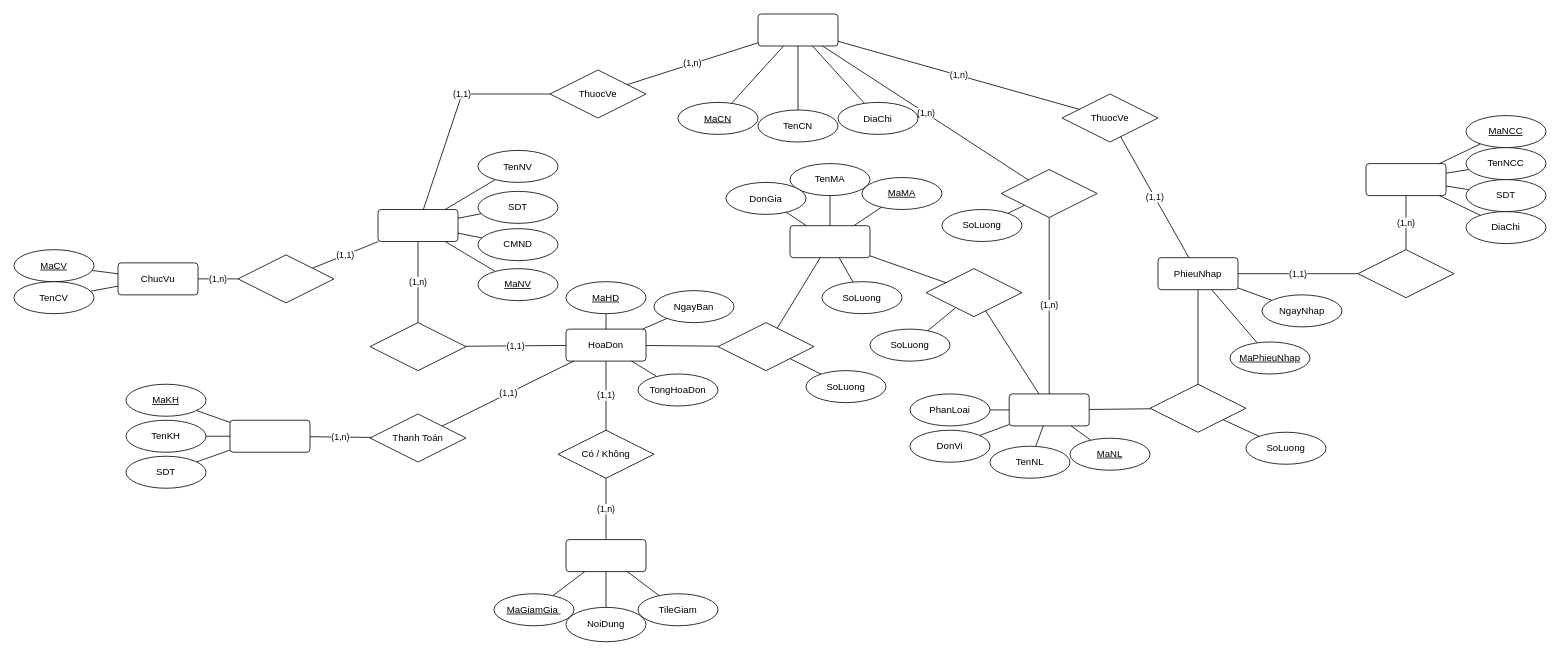
Some shapes in this 1560 by 656 pixel diagram are drawn without their labels. The box of each missing label's shape, as (x1, y1, x2, y2) in pixels:
Bán: (369, 322, 466, 371)
CheBien: (925, 268, 1022, 317)
ChiNhanh: (757, 13, 838, 46)
CTHD: (717, 322, 814, 371)
CTK: (1000, 169, 1097, 218)
CTPN: (1149, 383, 1246, 432)
Có: (1357, 249, 1454, 298)
KhachHang: (229, 419, 310, 452)
MonAn: (789, 225, 870, 258)
NguyenLieu: (1008, 393, 1089, 426)
NhaCungCap: (1365, 163, 1446, 196)
NhanVien: (377, 209, 458, 242)
PhieuGiamGIa: (565, 539, 646, 572)
Thuộc về: (237, 254, 334, 303)
